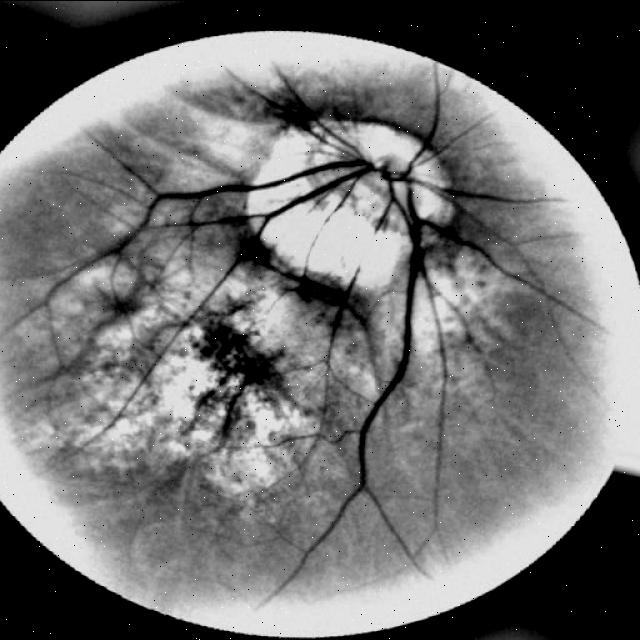Nerves: (48, 64, 599, 604)
Optic Disk: (252, 120, 452, 291), (248, 168, 360, 214)
